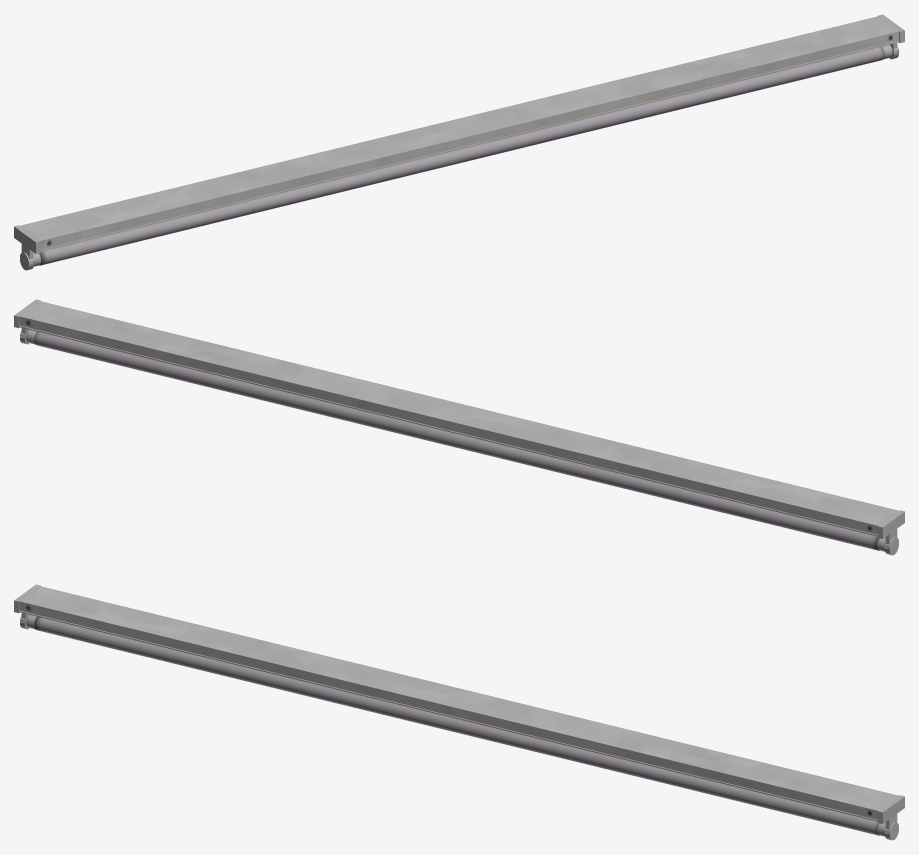
The model's file is mounted-fluorescent--1.gltf.
The picture shows the model from 3 angles, top to bottom: view 1: azimuth 30°, elevation 25°; view 2: azimuth 150°, elevation 25°; view 3: azimuth 330°, elevation 25°; orthographic projection.
Parts seen in each view (by area): view 1: mounted_fluorescent_lights_a; view 2: mounted_fluorescent_lights_a; view 3: mounted_fluorescent_lights_a.
Boxes of the visible parts, x1,y1,x2,y2 form: mounted_fluorescent_lights_a: [14, 14, 904, 270]; mounted_fluorescent_lights_a: [14, 299, 904, 555]; mounted_fluorescent_lights_a: [14, 584, 904, 840].
Bounding box in the file's own units: 0.9122 × 0.0353 × 0.0402.
Materials: 2 (2 with a texture image).
